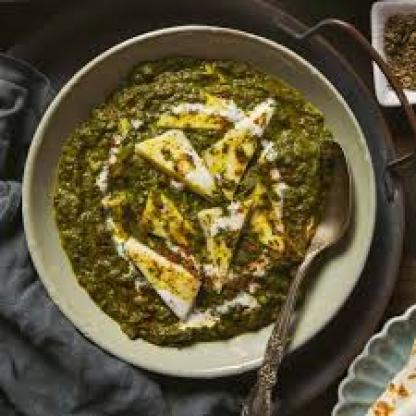palak_paneer: (52, 57, 333, 349)
